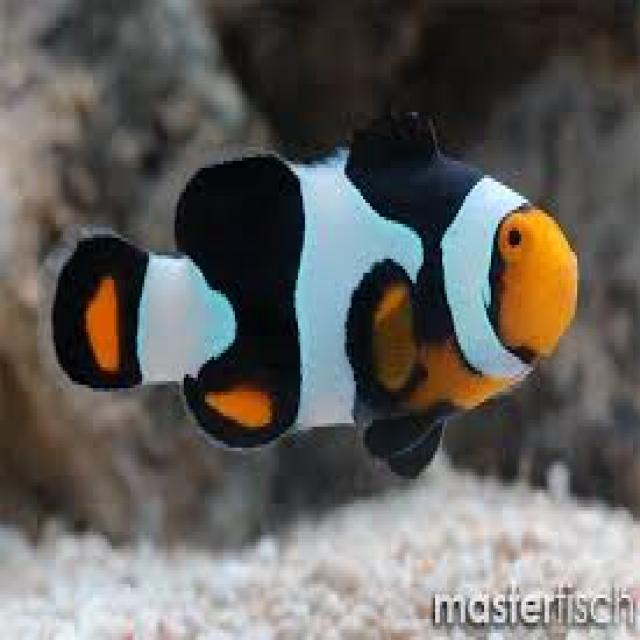Amphiprion-percula: (39, 120, 622, 530)
